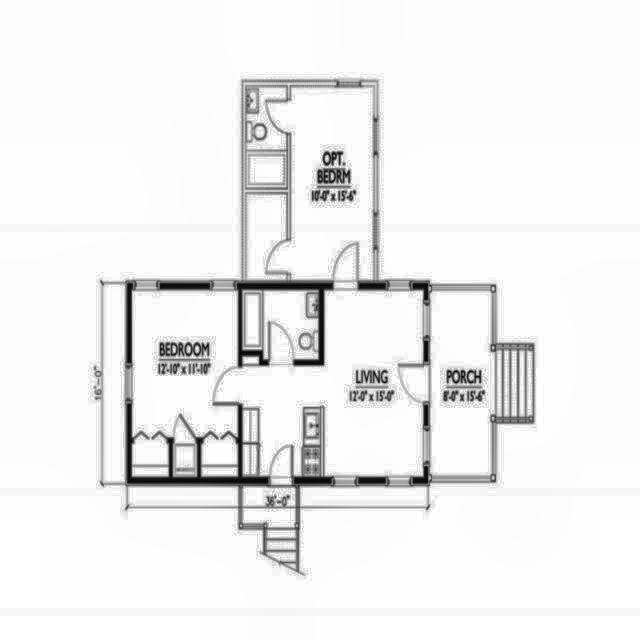room: (131, 290, 239, 478), (324, 290, 424, 478), (291, 87, 374, 282), (430, 289, 492, 477), (242, 366, 319, 478), (242, 289, 319, 360), (245, 84, 287, 188), (246, 192, 287, 281)
